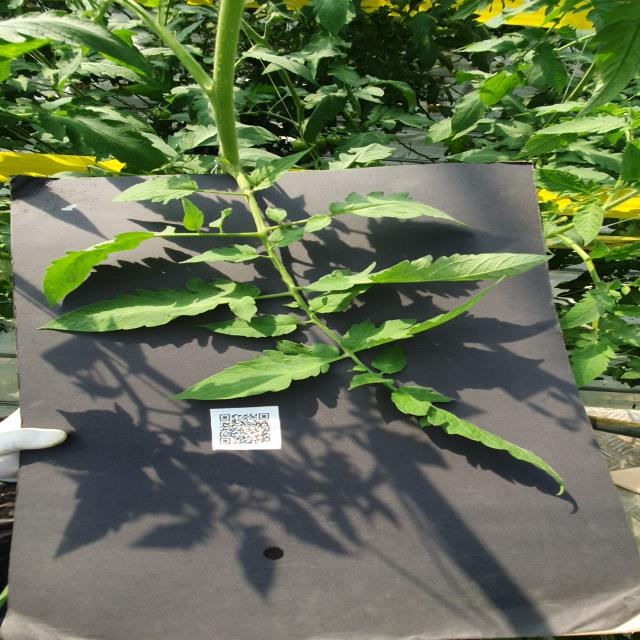Healthy Leaf: (393, 386, 566, 497), (1, 10, 176, 98), (341, 275, 508, 355), (36, 279, 262, 334), (42, 227, 177, 309), (164, 340, 340, 402), (39, 110, 172, 177), (574, 3, 640, 121), (333, 254, 559, 286), (306, 193, 472, 235), (308, 262, 378, 314), (559, 280, 624, 331), (243, 48, 322, 88), (249, 147, 315, 192), (570, 334, 621, 390), (180, 122, 282, 150), (112, 176, 200, 206), (195, 315, 301, 339), (535, 169, 607, 199), (450, 89, 491, 137), (533, 41, 568, 96), (329, 144, 398, 171), (311, 1, 357, 41), (513, 134, 580, 161), (534, 117, 628, 136), (179, 245, 261, 265), (572, 203, 608, 248), (445, 148, 529, 166), (457, 36, 531, 56), (481, 73, 520, 107), (372, 343, 409, 375), (425, 117, 454, 149), (303, 277, 357, 294), (181, 196, 206, 232), (348, 374, 391, 392)
